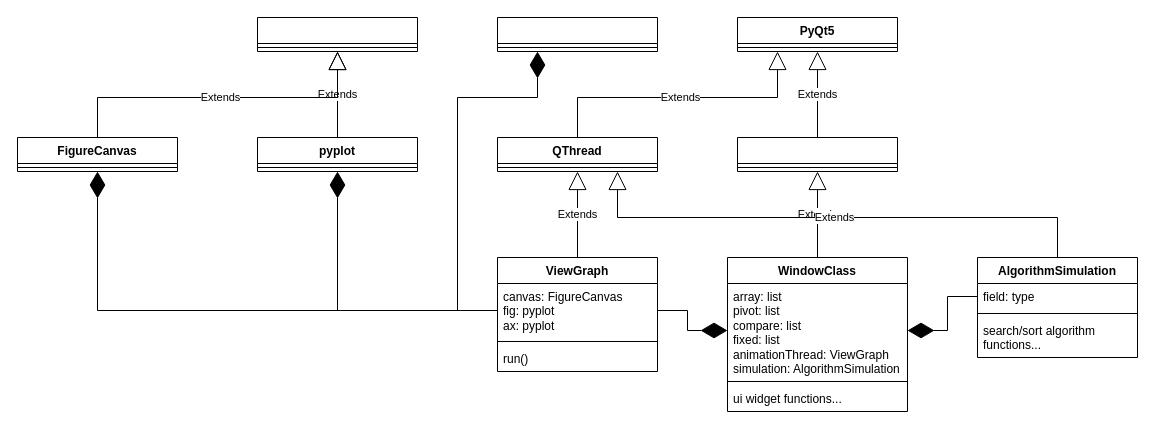
This 1155x432 diagram has some shape labels left out. The centre of each missing label's shape, as x and y in pixels:
"Matplotlib" goes at (337,34).
"Numpy" goes at (577,34).
"QMainWindow" goes at (817,154).
